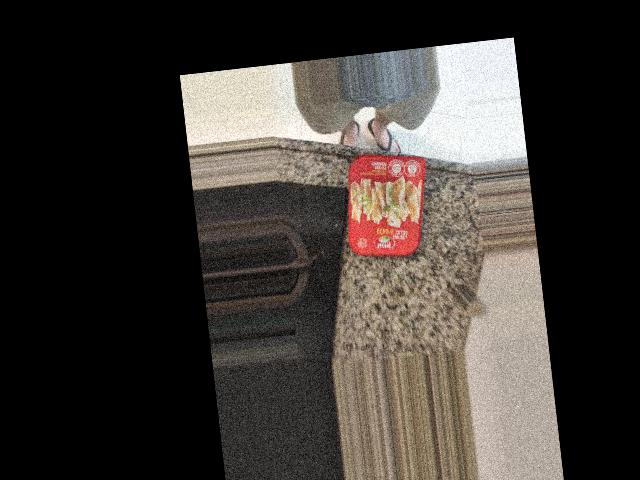cheese: (326, 196, 426, 315)
